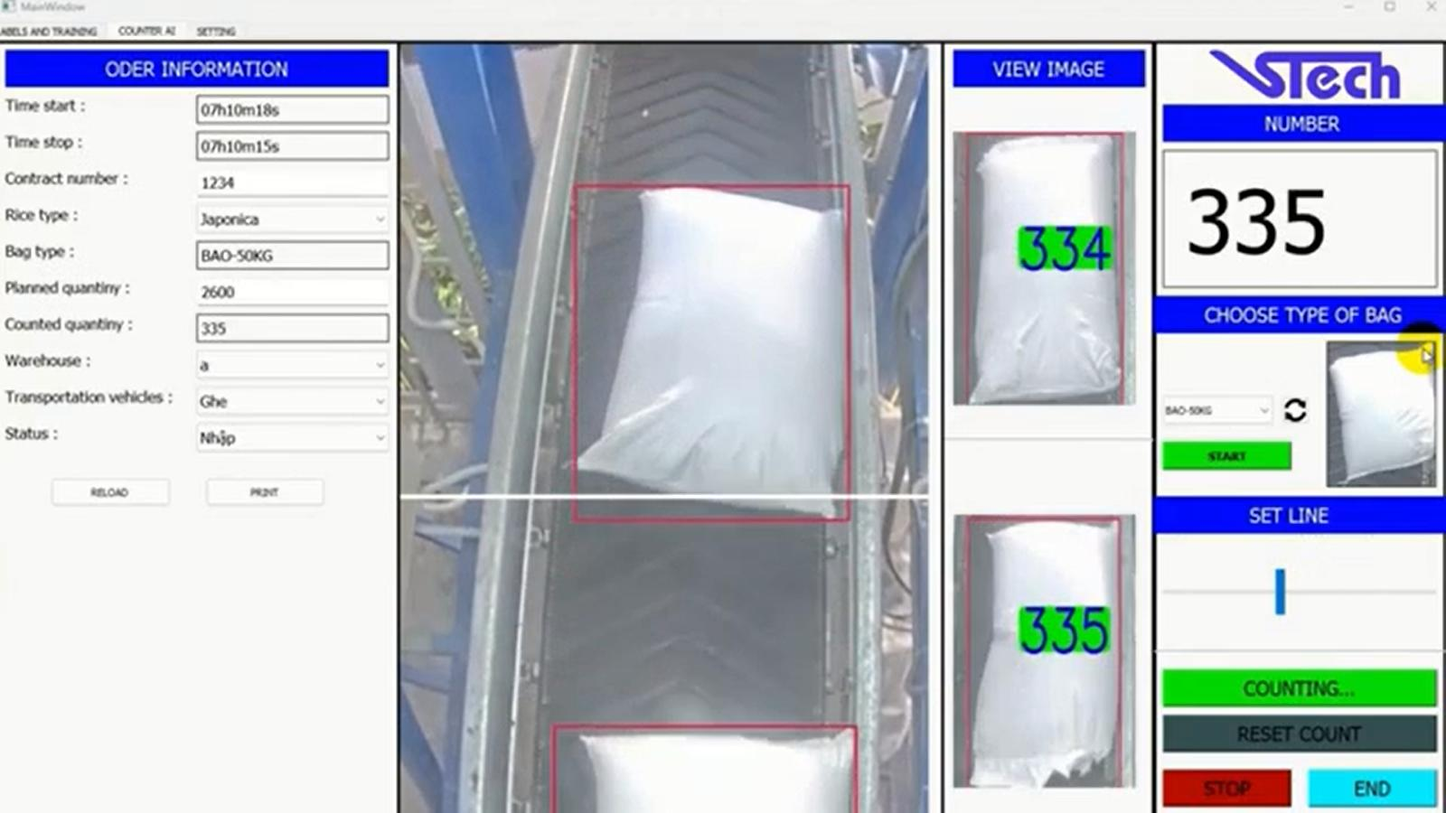rice-bag: (576, 187, 848, 517), (966, 135, 1122, 402), (967, 520, 1121, 788)
